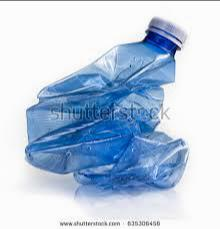Plastic: (22, 7, 190, 195)
